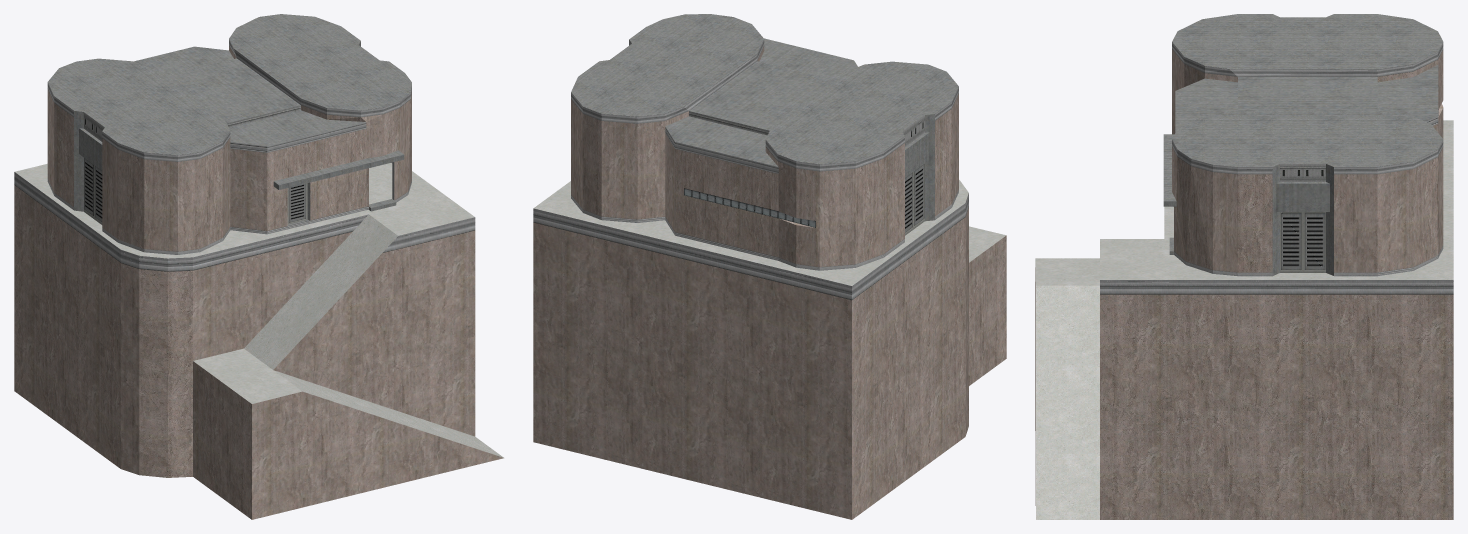
The model's file is ply_corl_house_m_s01_fp1_r0_exterior_mesh_l1.fbx.
The picture shows the model from 3 angles, left to right: view 1: azimuth 30°, elevation 25°; view 2: azimuth 150°, elevation 25°; view 3: azimuth 270°, elevation 25°; orthographic projection. The views are drawn at different scales.
Parts seen in each view (by area): view 1: mesh_node; view 2: mesh_node; view 3: mesh_node.
Boxes of the visible parts, left/top/right/bottom form: mesh_node: left=14, top=14, right=503, bottom=519; mesh_node: left=533, top=14, right=1006, bottom=519; mesh_node: left=1035, top=14, right=1453, bottom=519.
Size of the model in its own units: 23.53 by 24 by 26.07.
